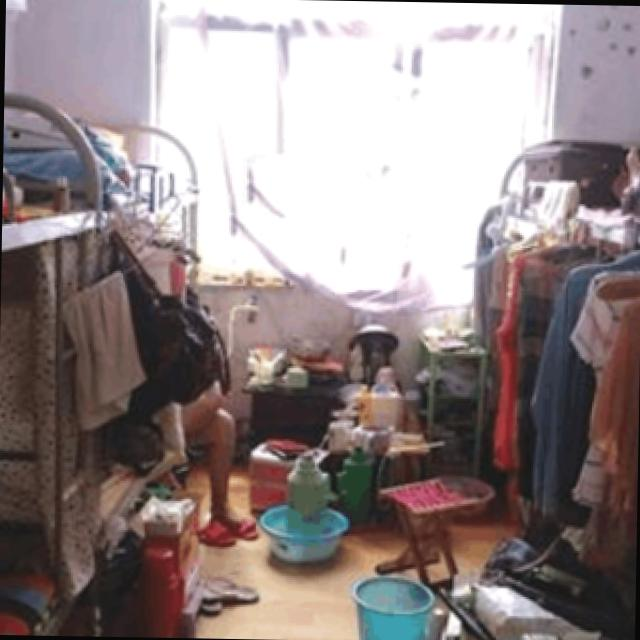mess: (207, 320, 589, 640), (0, 118, 197, 633)
